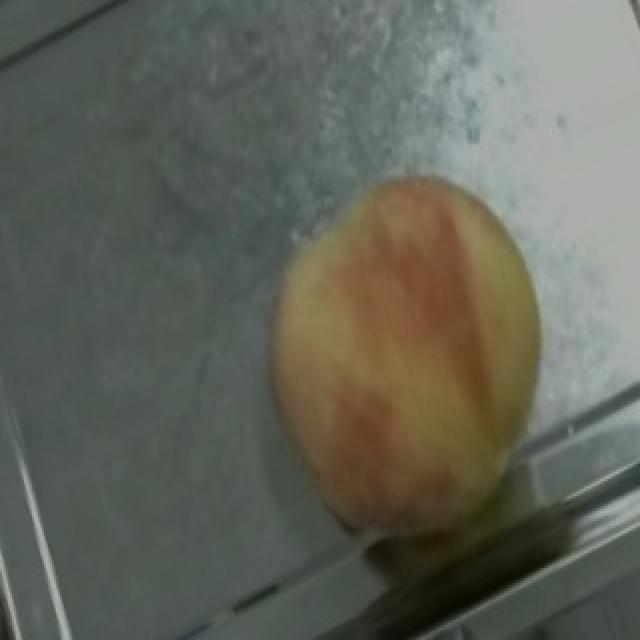Fruit: (230, 139, 592, 588)
